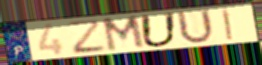4: (36, 22, 66, 56)
I: (221, 8, 235, 42)
M: (100, 14, 147, 54)
U: (139, 11, 180, 49), (174, 8, 216, 45)
Z: (65, 18, 109, 56)
